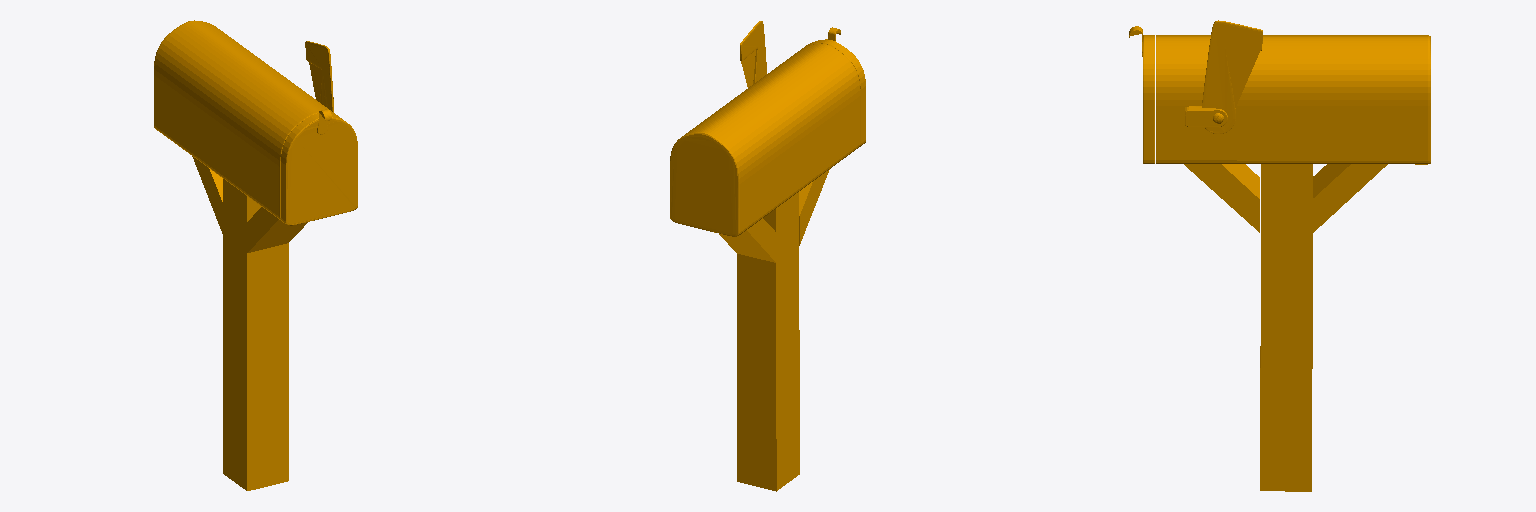
The robot description file, URDF, robot "none":
<robot name="none">
       <link name="none">
           <visual>
               <origin rpy="1.57 0 0" xyz="0 0 0" />
               <geometry>
                   <mesh filename="mofx_mailbox.obj" />
               </geometry>
           </visual>
          <collision>
              <geometry>
                  <box size="0.194952 1.000000 0.569989" />
              </geometry>
          </collision>

          <inertial>
            <mass value="0.0" />
            <inertia ixx="0.0" ixy="0.0" ixz="0.0" iyy="0.0" iyz="0.0" izz="0.0" />
          </inertial>
      </link>
  </robot>

--- What the picture shows (computed from the rendered views, not written in the file) ---
The picture shows the robot from 3 angles, left to right: view 1: azimuth 30°, elevation 25°; view 2: azimuth 150°, elevation 25°; view 3: azimuth 270°, elevation 25°; orthographic projection.
Robot: none — 1 links, 0 joints (none); root link none; default pose: all joints at 0.
Visible links, largest first — view 1: none; view 2: none; view 3: none.
Boxes of the visible links, left/top/right/bottom form: none: left=154, top=20, right=357, bottom=490; none: left=670, top=21, right=865, bottom=491; none: left=1129, top=20, right=1430, bottom=491.
Bounding box of the posed robot: 0.195 × 0.5699 × 1 m (x, y, z).
1 mesh visuals loaded from 1 distinct referenced files (1 OBJ).